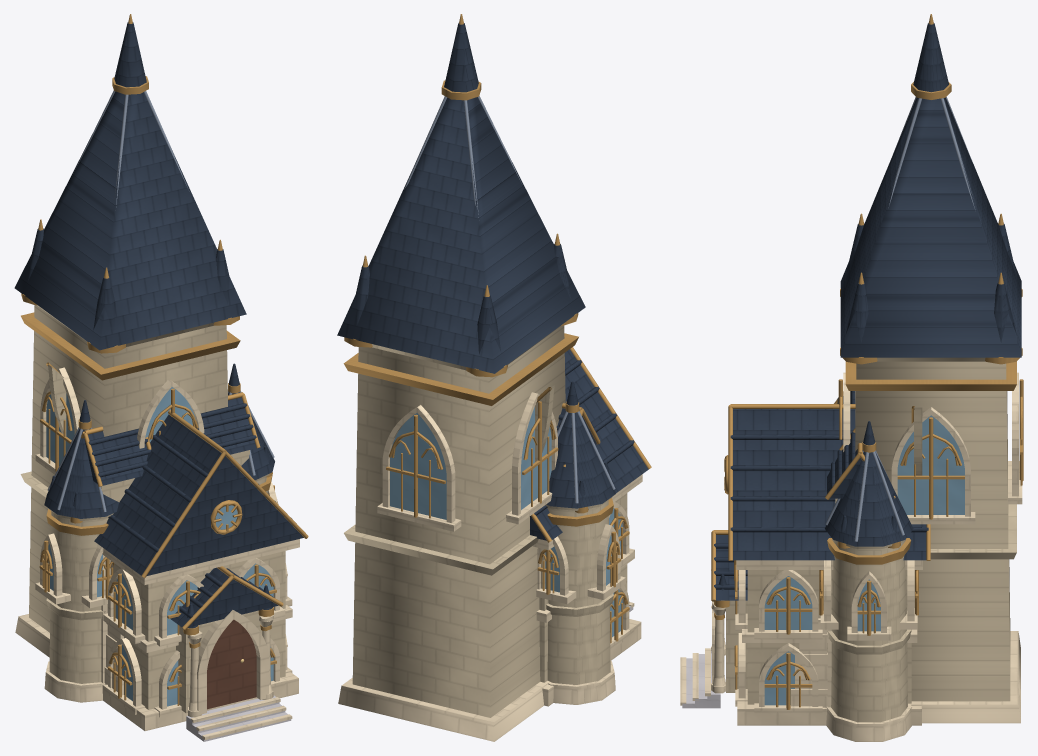
Rendered from angelic-tower.glb.
3 renders of one model, left to right at view 1: azimuth 30°, elevation 25°; view 2: azimuth 150°, elevation 25°; view 3: azimuth 270°, elevation 25°, orthographic. The views are drawn at different scales.
Bounding box in the file's own units: 4.79 × 12.54 × 5.81.
9 materials, 9 textured.
